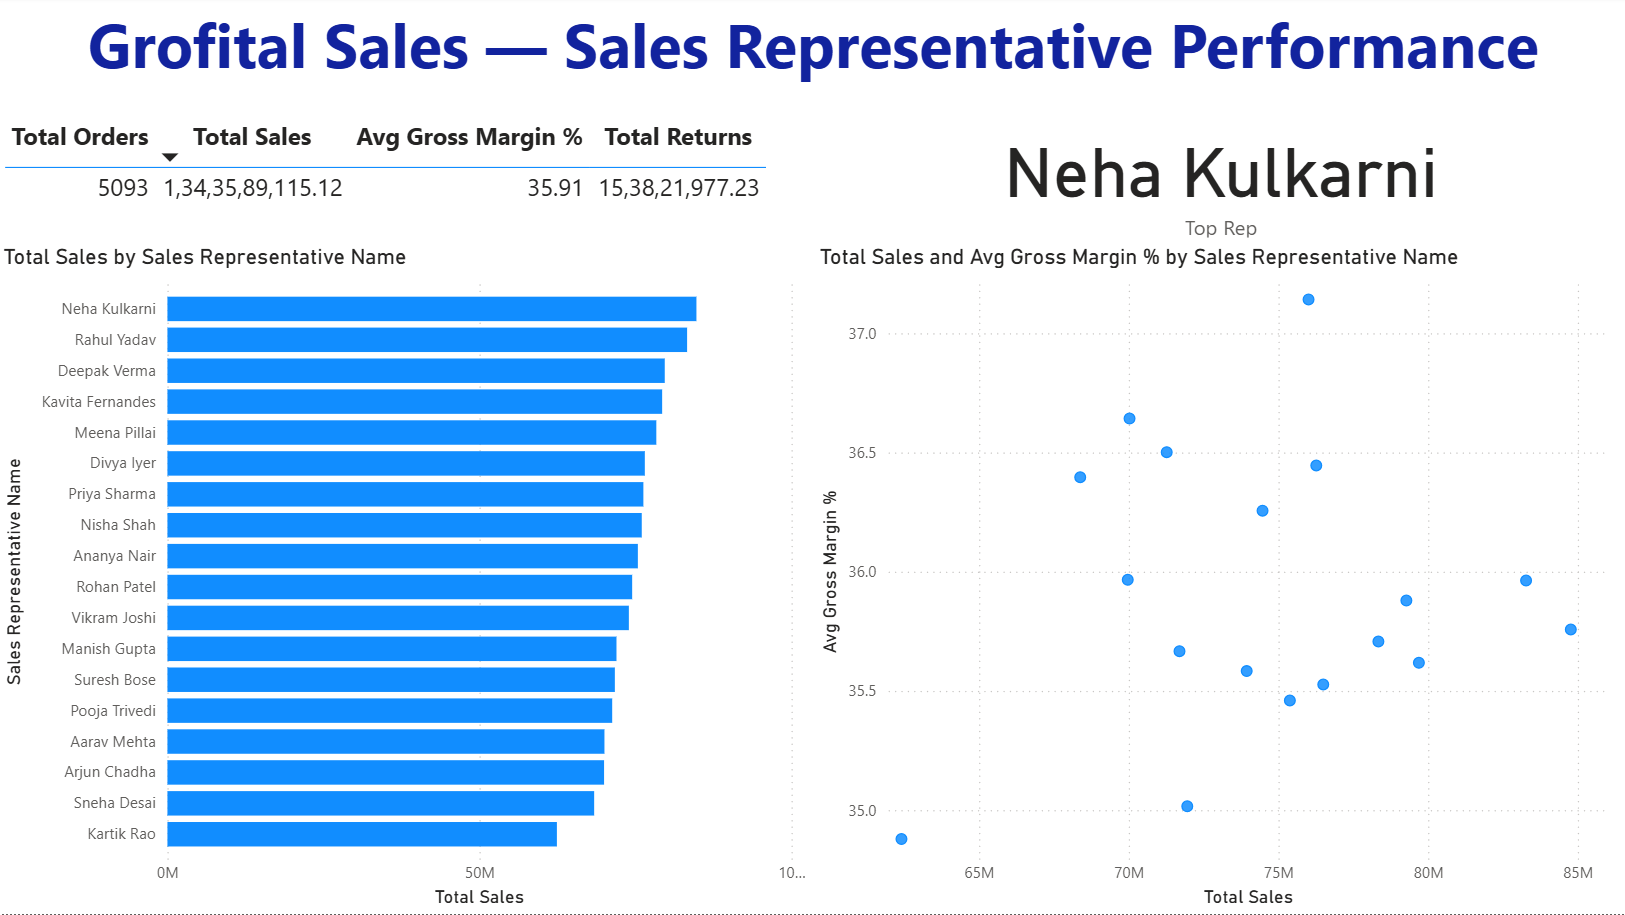

The dashboard page shown, as its layout file describes it:
{"tool":"powerbi","page":{"name":"Sales Representative Dashboard","canvas":[1280,720],"ordinal":1},"visuals":[{"type":"barChart","fields":{"Y":["Fact_Sales.Total Sales"],"Category":["Dim_SalesRep.Sales Representative Name"]},"box":[0,194.4,640,525.6],"z":0},{"type":"tableEx","fields":{"Values":["Fact_Sales.Total Orders","Fact_Sales.Total Sales","Fact_Sales.Avg Gross Margin %","Fact_Sales.Total Returns"]},"box":[0,90,640,104.4],"z":1000},{"type":"scatterChart","fields":{"X":["Fact_Sales.Total Sales"],"Y":["Fact_Sales.Avg Gross Margin %"],"Category":["Dim_SalesRep.Sales Representative Name"]},"box":[640,194.4,640,525.6],"z":2000},{"type":"card","fields":{"Values":["Fact_Sales.Top Rep"]},"box":[640,90,640,104.4],"z":3000},{"type":"textbox","box":[0,0,1280,90],"z":4000}]}

Visuals, with their boxes in screenshot pixels (x1, y1, x2, y2), scaled from the page's 1280x720 canvas onto the 1625x915 screenshot:
barChart - Fact_Sales.Total Sales x Dim_SalesRep.Sales Representative Name: <box>0,247,812,914</box>
tableEx - Fact_Sales.Total Orders x Fact_Sales.Total Sales: <box>0,114,812,247</box>
scatterChart - Fact_Sales.Total Sales x Fact_Sales.Avg Gross Margin %: <box>812,247,1624,914</box>
card - Fact_Sales.Top Rep: <box>812,114,1624,247</box>
textbox: <box>0,0,1624,114</box>
